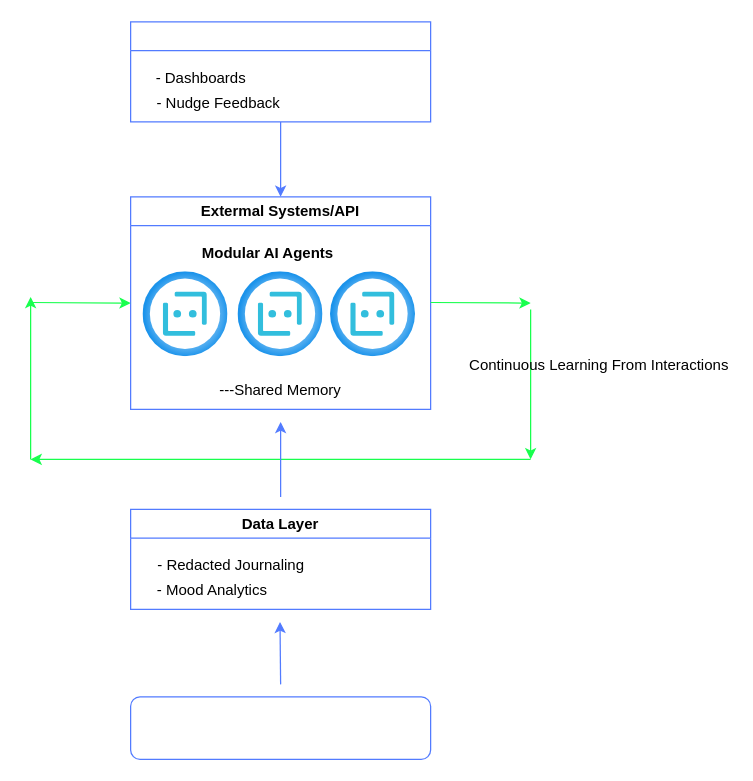
Image size: 753x781. Some labels were removed from this diagram. Here are the shapes that lost their labels. From the top down, the box of each, then its label:
(129, 21, 431, 122): UI Layer
(129, 696, 431, 759): INPUT SOURCE
